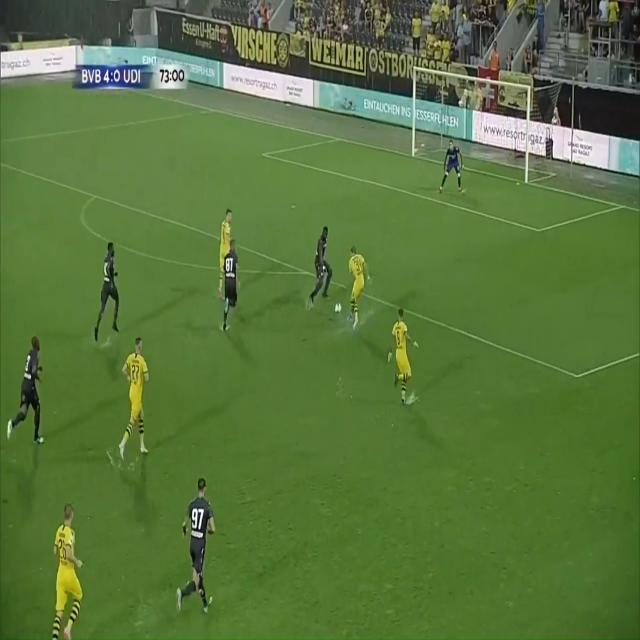ball: (333, 299, 346, 319)
goalkeeper: (439, 137, 468, 202)
player: (44, 501, 94, 640), (8, 321, 49, 446), (117, 336, 151, 477), (182, 470, 216, 611), (93, 237, 127, 355), (393, 304, 418, 418), (310, 210, 335, 313), (220, 238, 246, 333), (206, 199, 232, 293), (345, 241, 368, 335)
